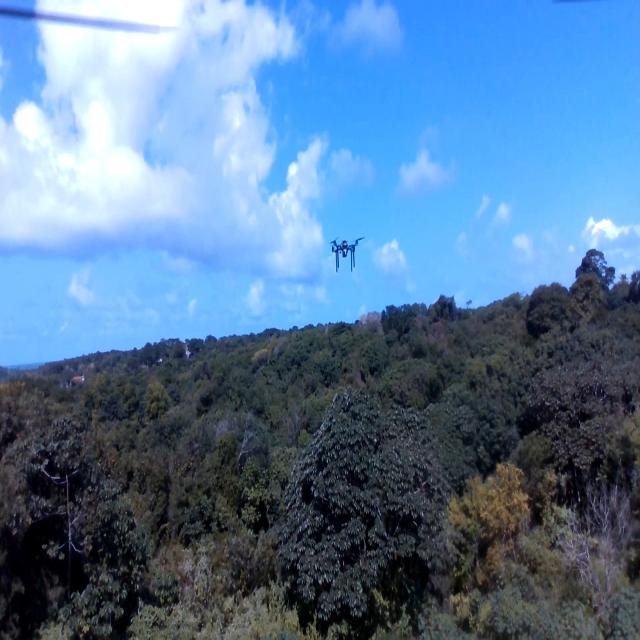-uav-: (320, 225, 371, 296)
